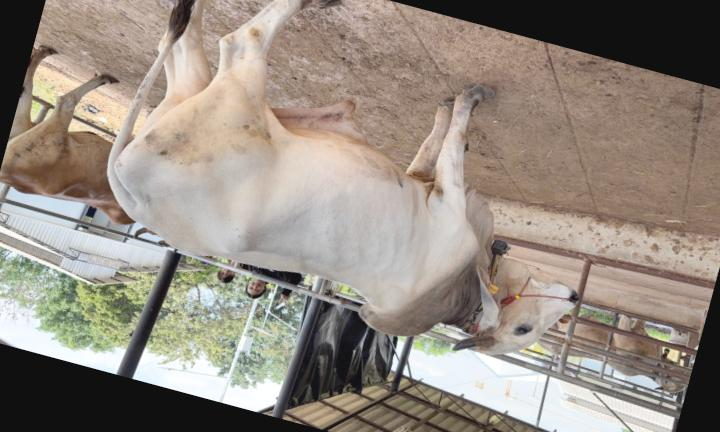Brahman: (107, 0, 577, 354)
